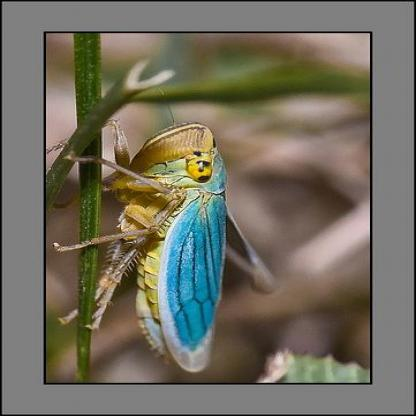Green-Leafhopper: (48, 109, 227, 378)
